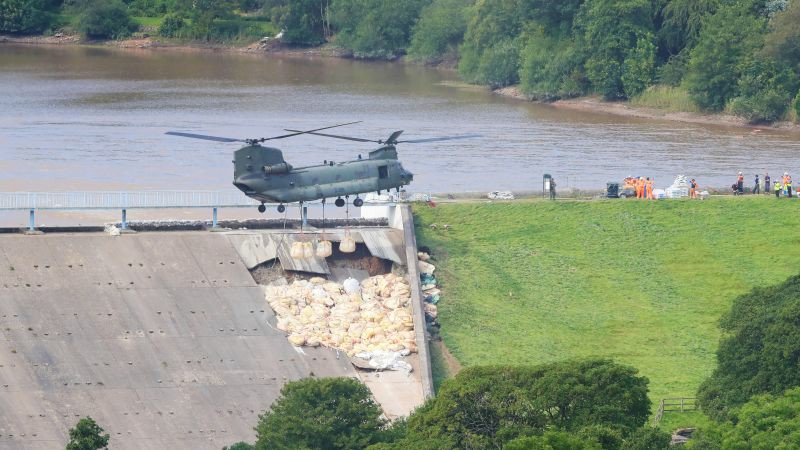chinook: (207, 120, 435, 212)
